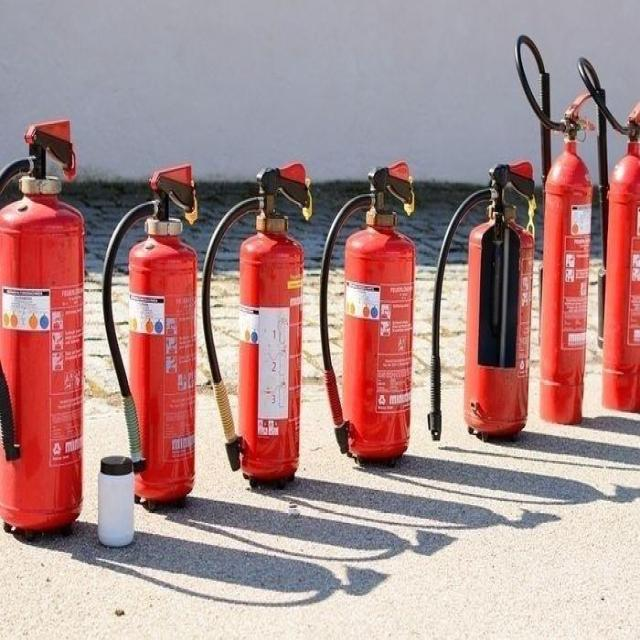fire_extinguisher: (198, 156, 314, 492), (0, 116, 86, 549), (511, 30, 604, 428), (97, 158, 199, 516), (313, 153, 420, 469), (425, 156, 537, 450), (575, 51, 639, 418)
